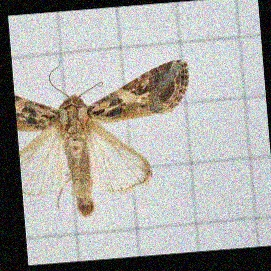Spodoptera litura: (17, 49, 194, 217)
